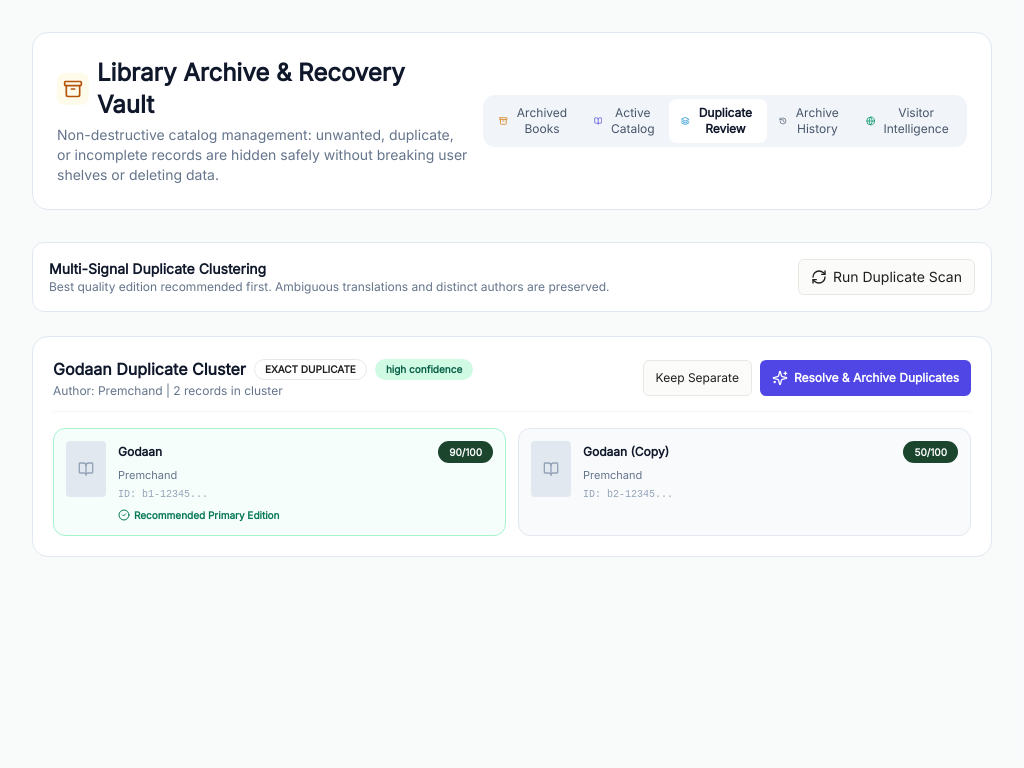
Test: AdminLibraryArchive › switches to duplicate review and supports previewing resolution
Expected: the heading "Godaan Duplicate Cluster" is shown, left=53, top=357, right=246, bottom=381
Expected: the text "Author: Premchand | 2 records in cluster" is shown, left=53, top=383, right=283, bottom=398
Click the button "Resolve & Archive Duplicates". click: [865, 378]
box: left=760, top=360, right=971, bottom=396
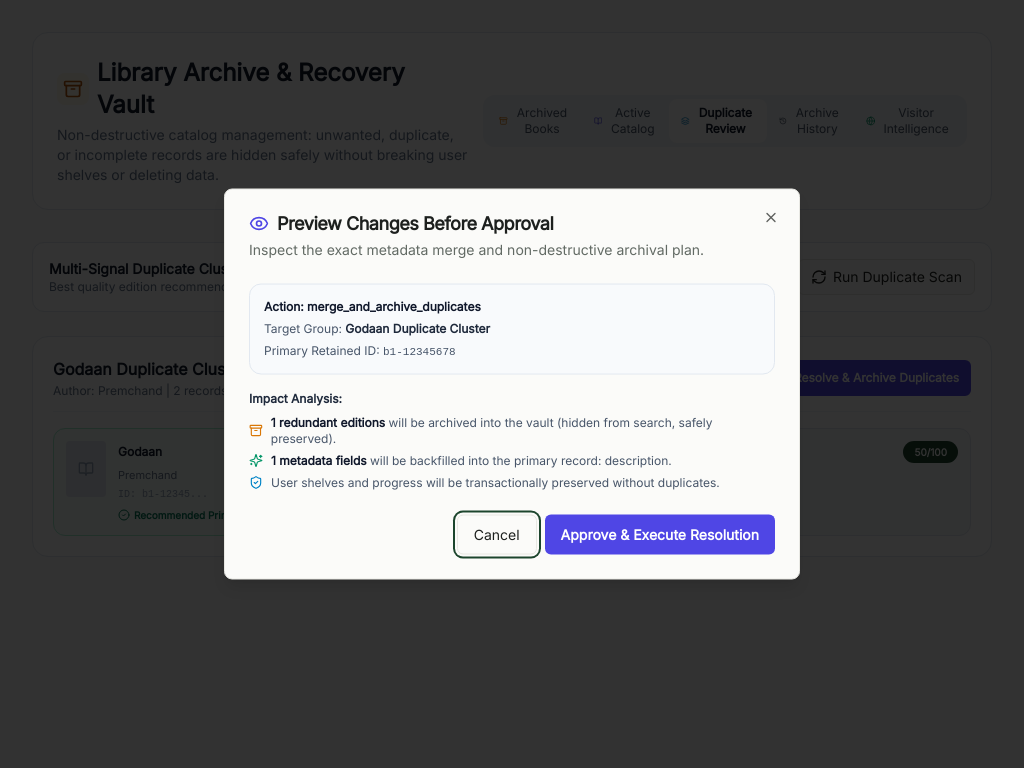
Now the heading "Preview Changes Before Approval" is shown, box left=249, top=212, right=553, bottom=234
